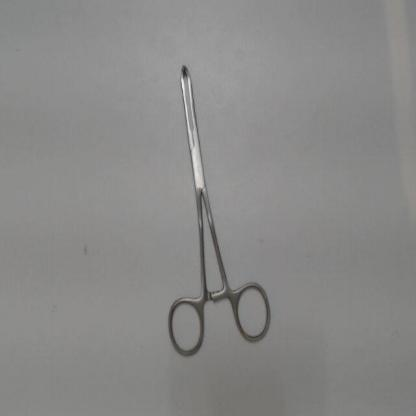Allis Tissue Forceps: (161, 53, 278, 365)
